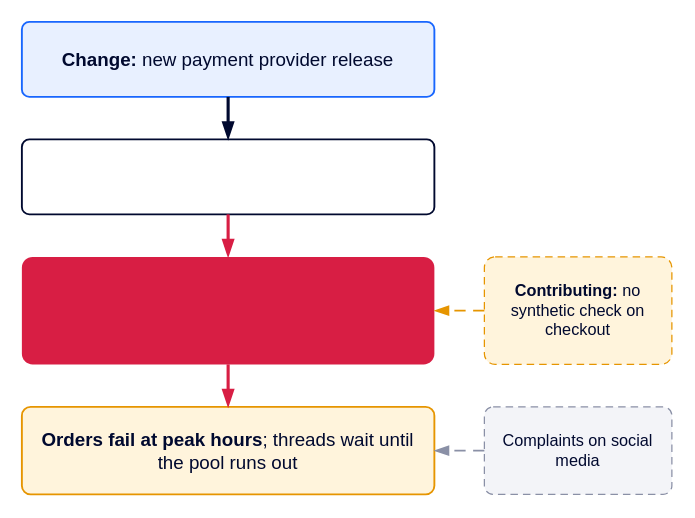
The diagram is 695 pixels wide and 518 high, and some of its shapes have lost their labels. The centre of each missing label's shape, as x and y in pixels:
Checkout calls a slower payment endpoint: (x=227, y=176)
ROOT CAUSE No timeout on the payment call: (x=227, y=310)
